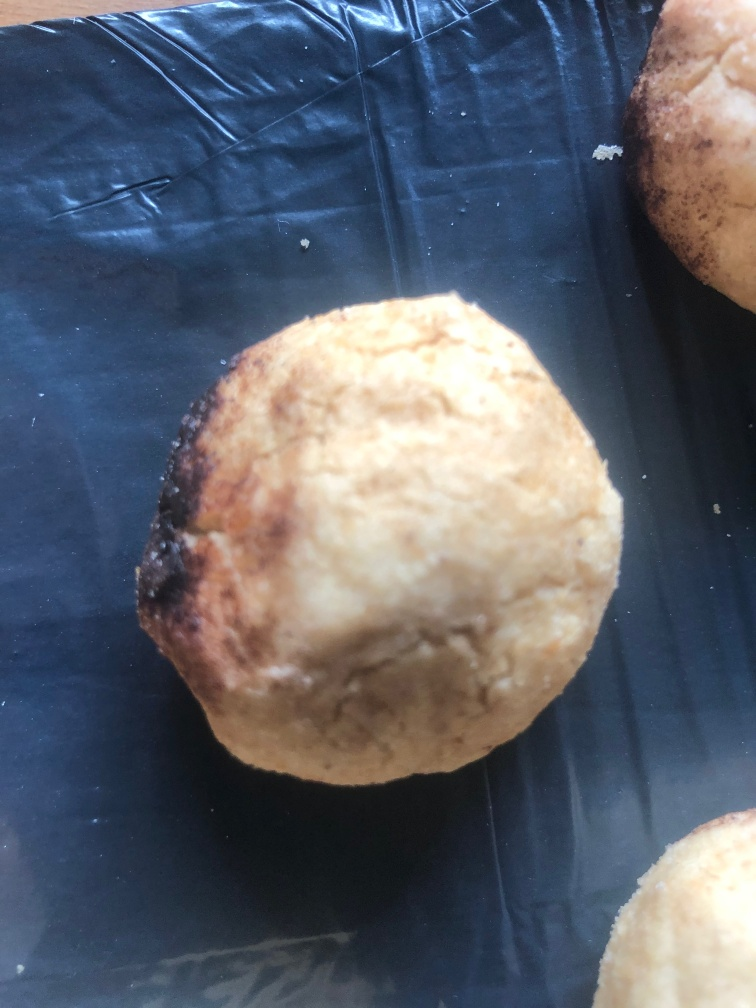snowball: (127, 285, 622, 788)
